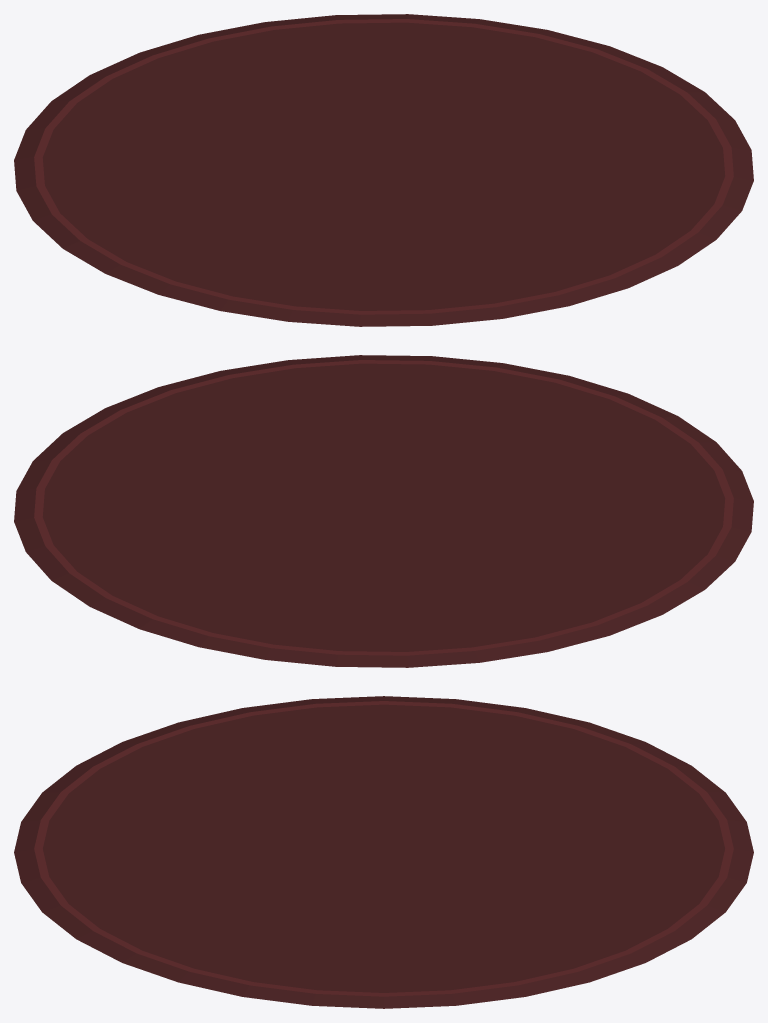
File: CARPET.glb
3 renders of one model, top to bottom at view 1: azimuth 30°, elevation 25°; view 2: azimuth 150°, elevation 25°; view 3: azimuth 270°, elevation 25°, orthographic.
Visible parts, largest first — view 1: Cylinder.009; view 2: Cylinder.009; view 3: Cylinder.009.
Boxes of the visible parts, bbox=[...] form: Cylinder.009: bbox=[14, 14, 753, 326]; Cylinder.009: bbox=[14, 355, 753, 667]; Cylinder.009: bbox=[14, 696, 753, 1008].
Size of the model in its own units: 5.09 by 0.0278 by 5.09.
